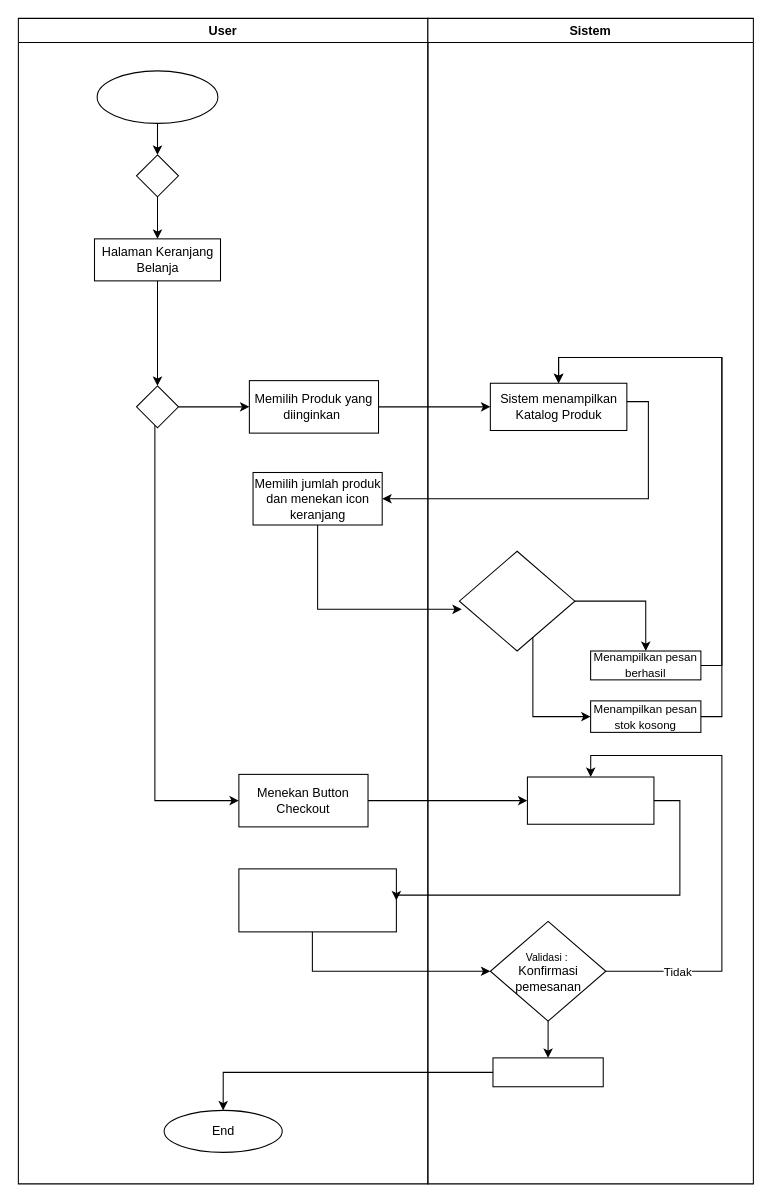
Some shapes in this 772 by 1202 pixel diagram are drawn without their labels. Each missing label, with the centre of its shape:
"Menampilkan Halaman Proses Transaksi" goes at point 590,800.
"Menampilkan pesan berhasil dibuat" goes at point 547,1072.
"Mengisi data transaksi dan menekan button pesan sekarang" goes at point 317,900.
"Start" goes at point 157,96.
"Validasi : stok produk tersedia atau tidak" goes at point 516,600.
